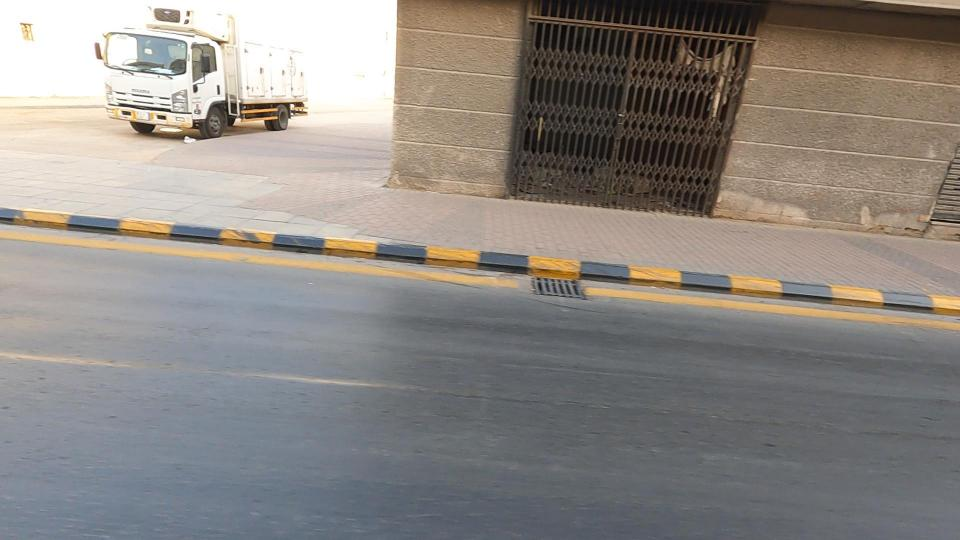GARBAGE: (162, 112, 218, 166)
